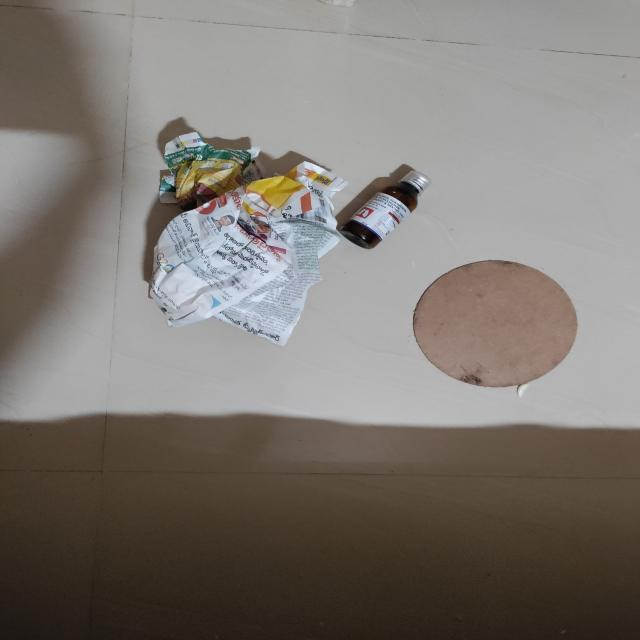paper: (172, 110, 336, 349), (422, 257, 580, 400)
plastic: (334, 151, 436, 258)
